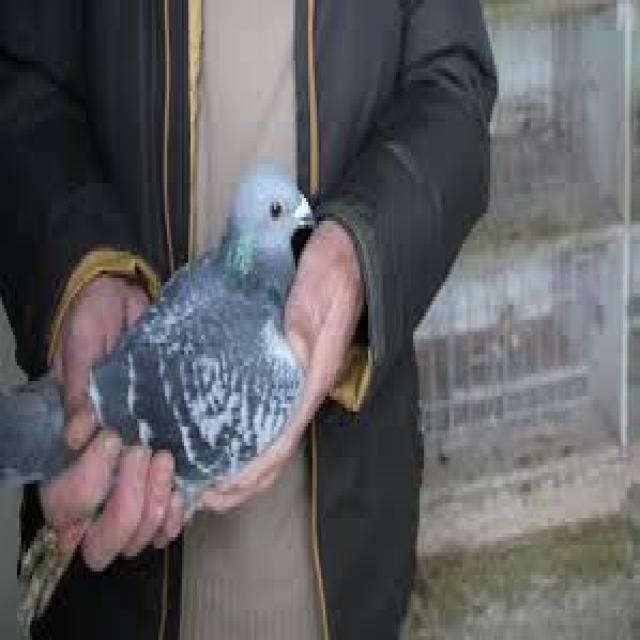pigeon: (0, 160, 336, 510)
